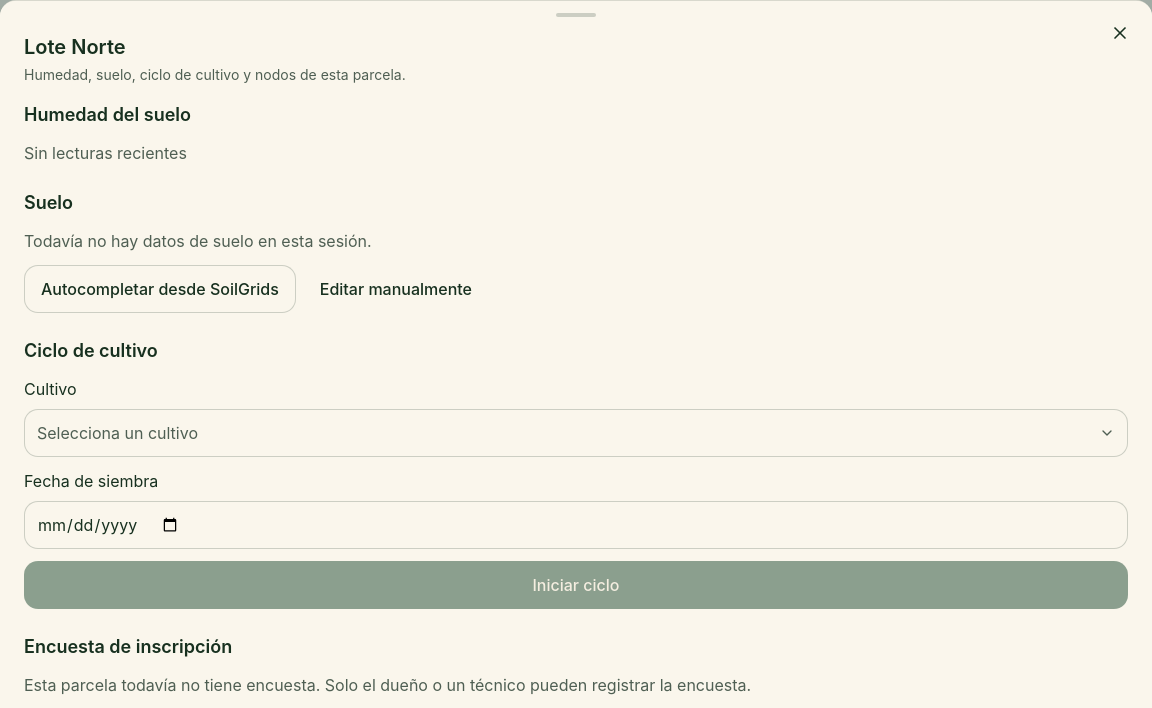
PlotDetailSheet › disables starting a cycle until crop and sowing date are selected
Expected: the button "Iniciar ciclo" is disabled, [24,561,1128,609]
Step 1. Click the dropdown → point(118, 433), box [24,409,1128,457]
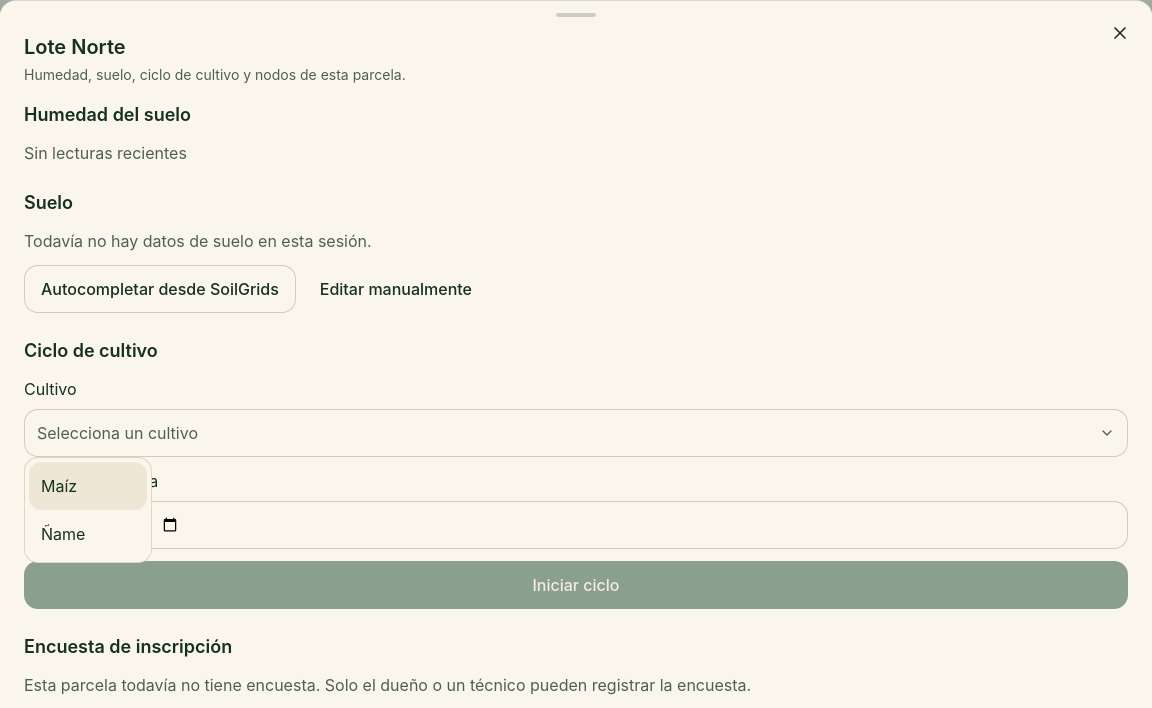
Step 2. Click the option "Maíz" → point(88, 486), box [29,462,147,510]
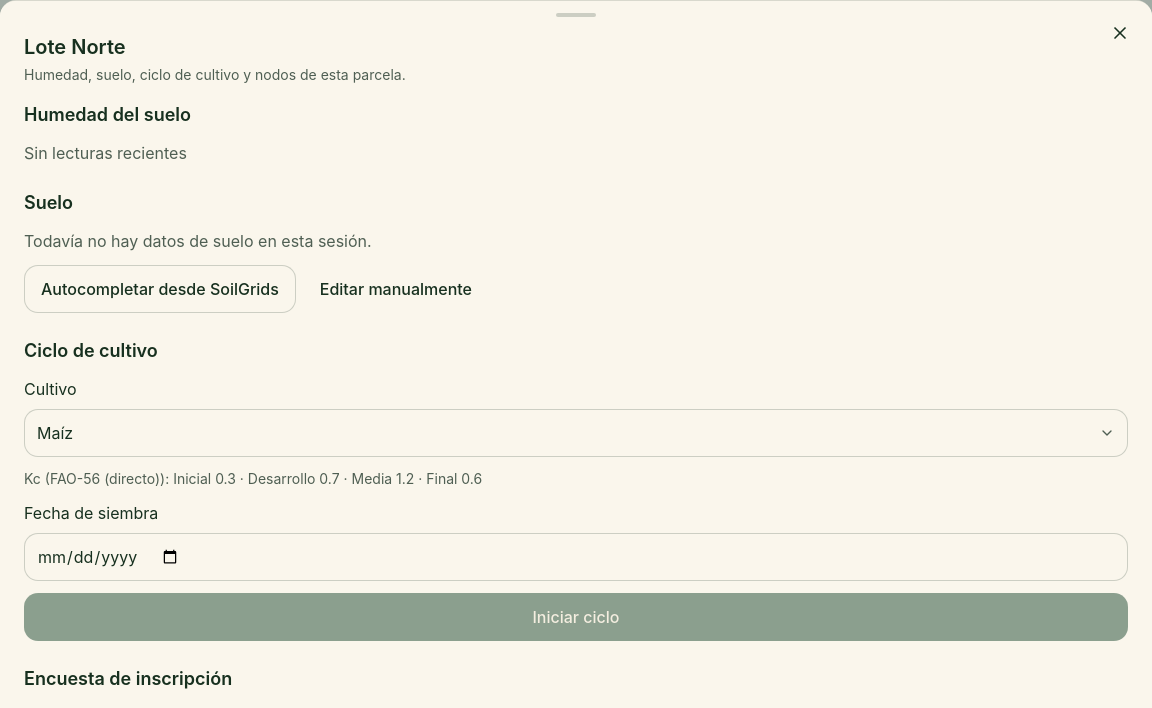
Expected: the button "Iniciar ciclo" is disabled, [24,593,1128,641]
Step 3. Type "2026-06-01" into the date field labelled "Fecha de siembra" → point(576, 557), box [24,533,1128,581]
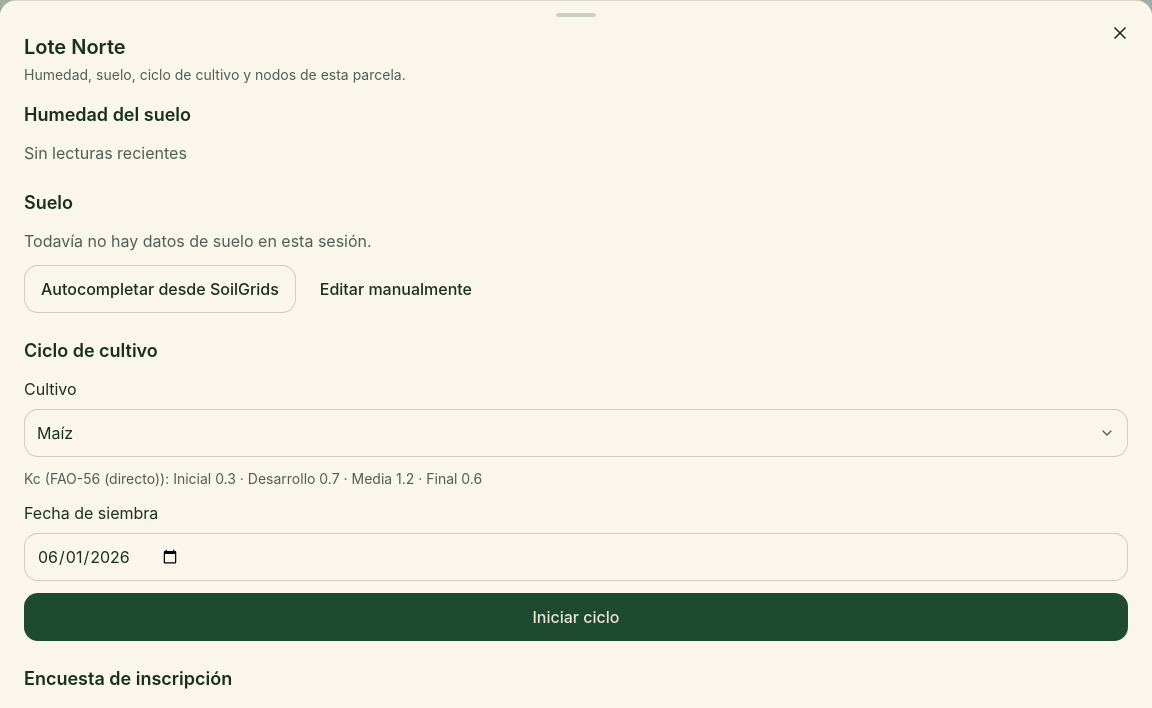
Result: the button "Iniciar ciclo" is enabled at [24,593,1128,641]
